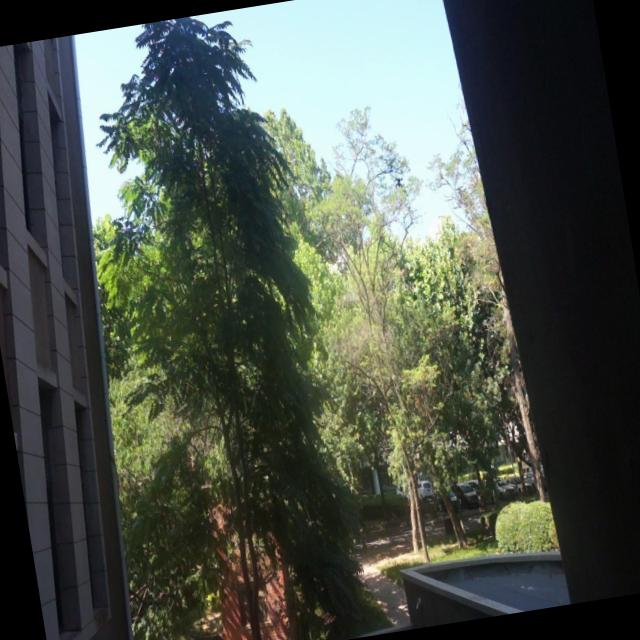drone: (392, 174, 403, 187)
